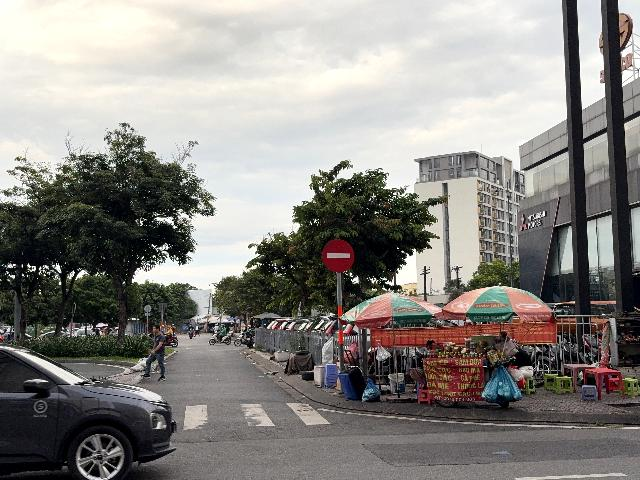cam-di-nguoc-chieu: (322, 239, 355, 273)
